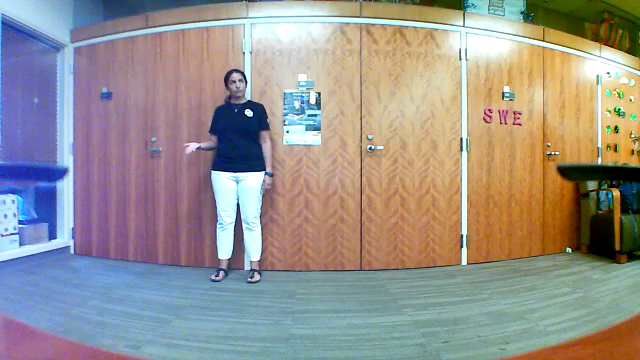land: (181, 138, 203, 160)
